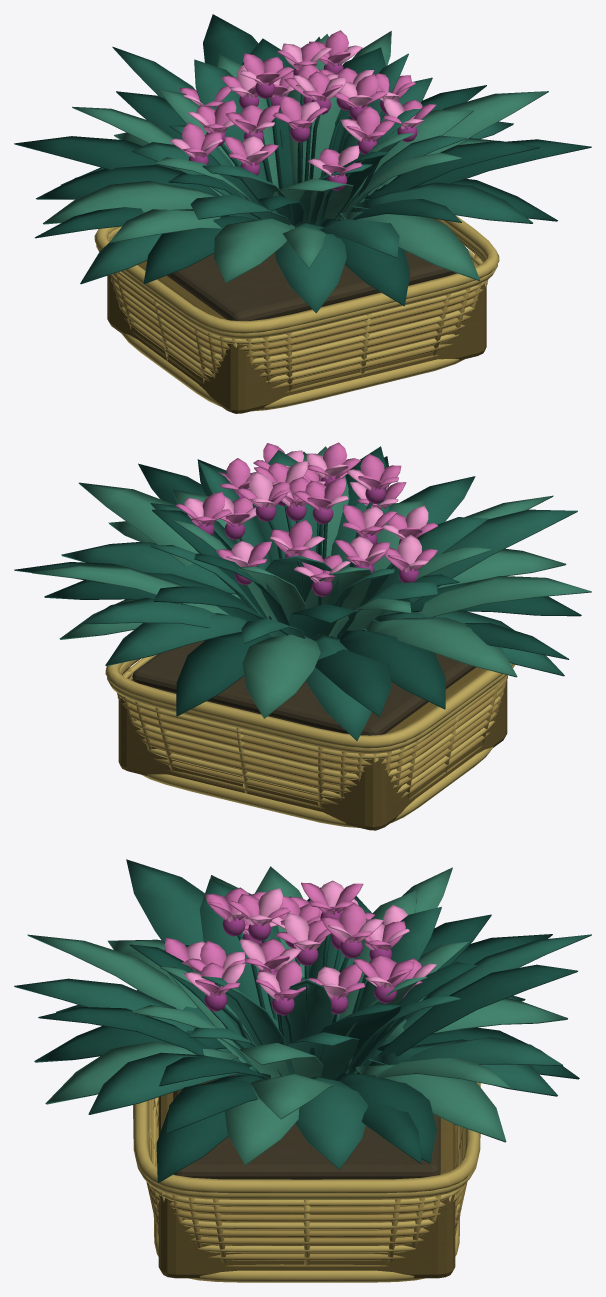
Rendered from 02_Flower_Basket.fbx.
3 renders of one model, top to bottom at view 1: azimuth 30°, elevation 25°; view 2: azimuth 150°, elevation 25°; view 3: azimuth 270°, elevation 25°, orthographic. The views are drawn at different scales.
Parts seen in each view (by area): view 1: 02_Flower_Basket_Mesh; view 2: 02_Flower_Basket_Mesh; view 3: 02_Flower_Basket_Mesh.
Boxes of the visible parts, left/top/right/bottom form: 02_Flower_Basket_Mesh: left=14, top=14, right=591, bottom=413; 02_Flower_Basket_Mesh: left=14, top=442, right=591, bottom=830; 02_Flower_Basket_Mesh: left=14, top=859, right=591, bottom=1282.
Size of the model in its own units: 33.76 by 18.04 by 30.03.
1 material, 1 textured.
